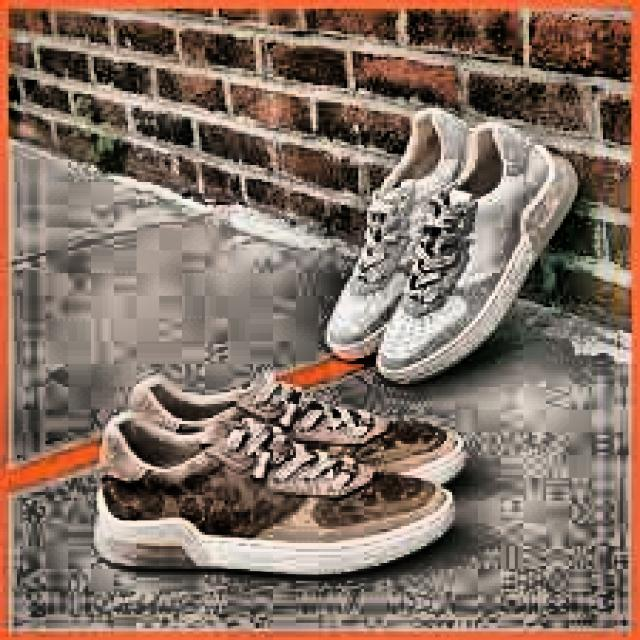shoes: (98, 374, 474, 578), (312, 105, 580, 390)
